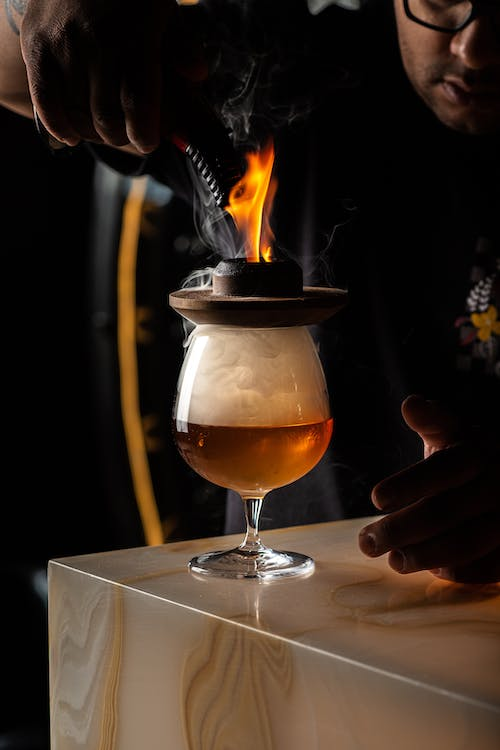alcohol: (171, 324, 336, 583)
